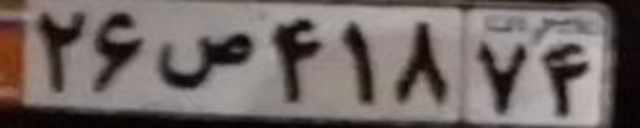1: (338, 21, 376, 103)
2: (37, 10, 87, 94)
4: (267, 17, 323, 103), (538, 43, 596, 117)
6: (92, 9, 145, 95)
7: (474, 39, 529, 114)
8: (386, 19, 450, 104)
saat: (155, 32, 254, 92)
